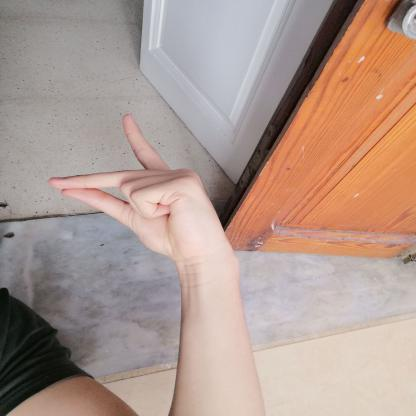TAA: (38, 105, 242, 266)
